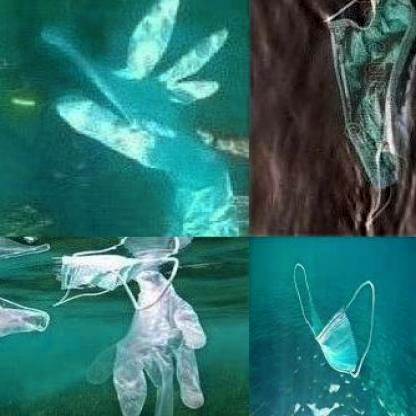Mask: (322, 0, 414, 233), (293, 259, 375, 381), (52, 249, 180, 311)
glove: (41, 2, 243, 235), (82, 282, 211, 415), (0, 260, 52, 414)
